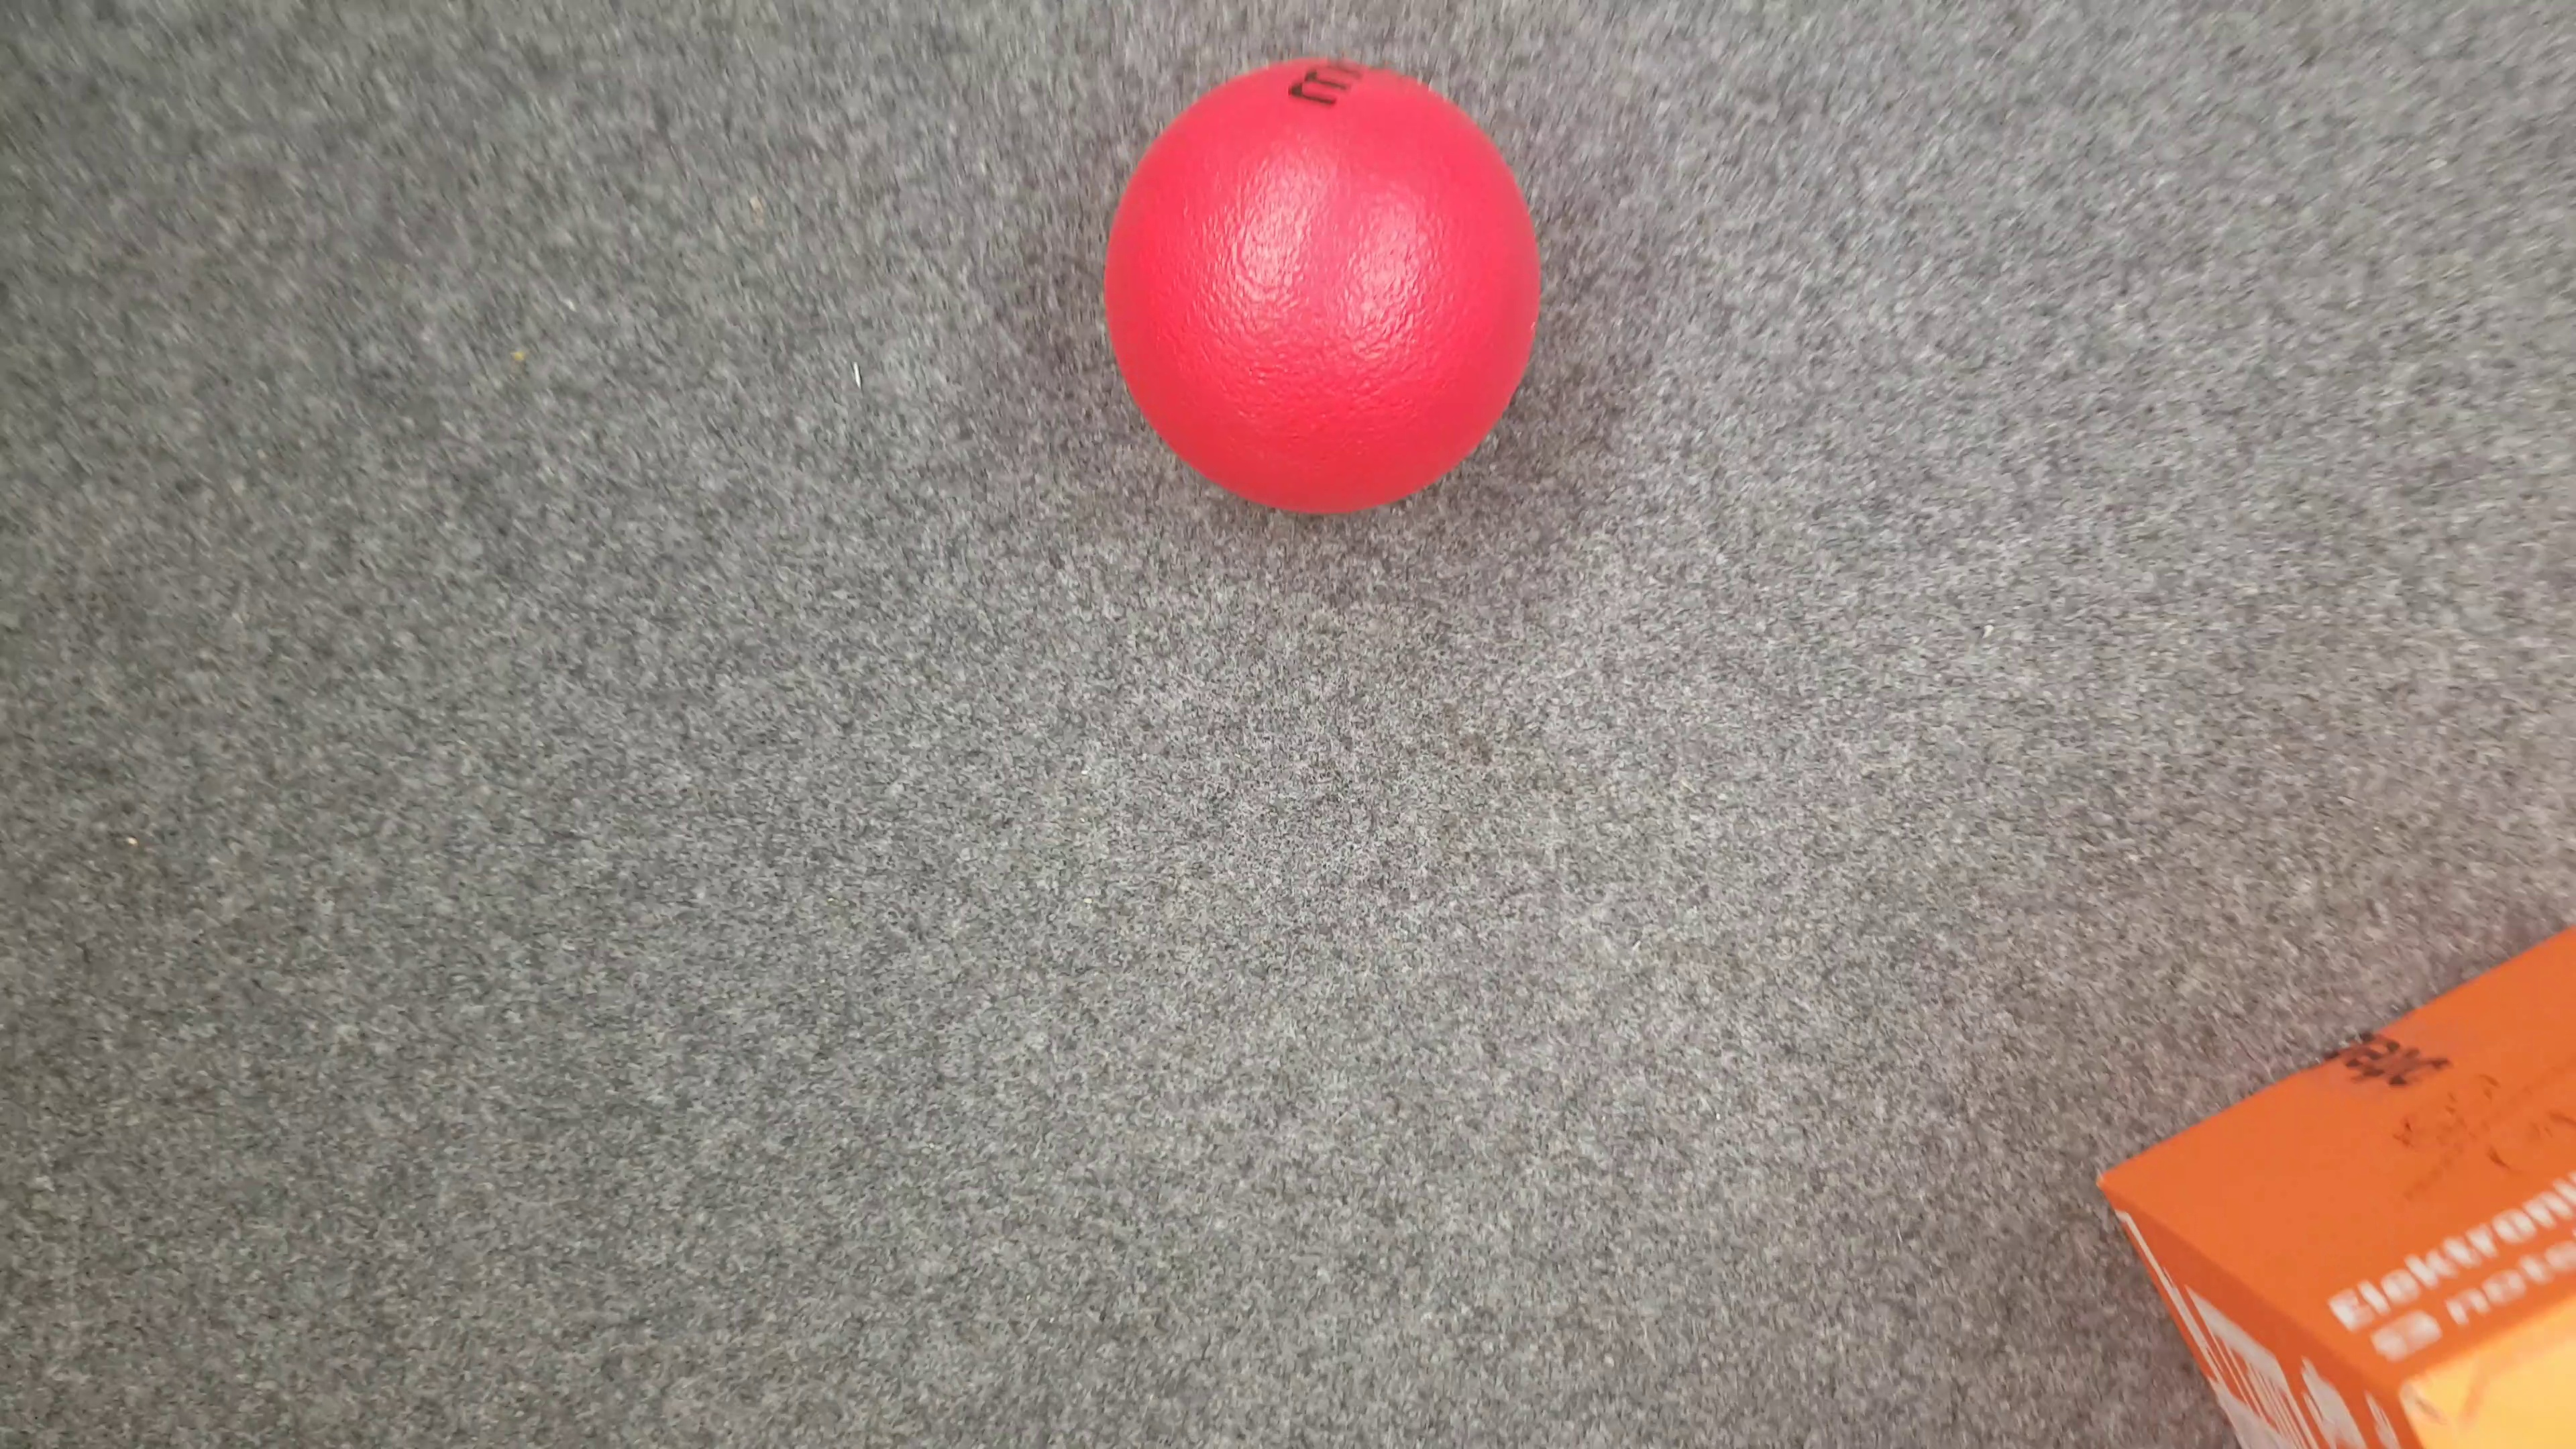kick: (1104, 50, 1550, 513)
push: (2100, 927, 2576, 1449)
